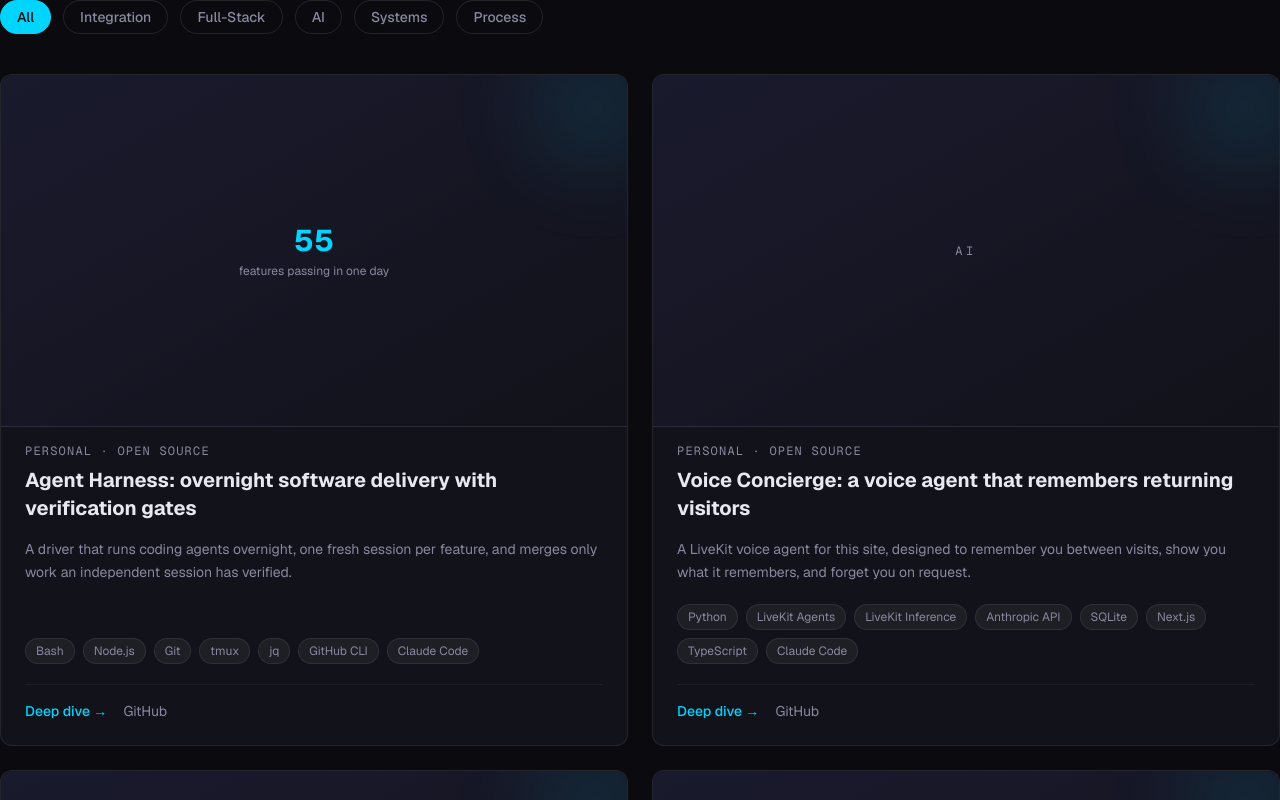
Test: ProjectsGrid › filtering by Process shows only the agent-harness and hit-list cards
Click the button "Process". click: (500, 17)
box: left=456, top=0, right=543, bottom=34
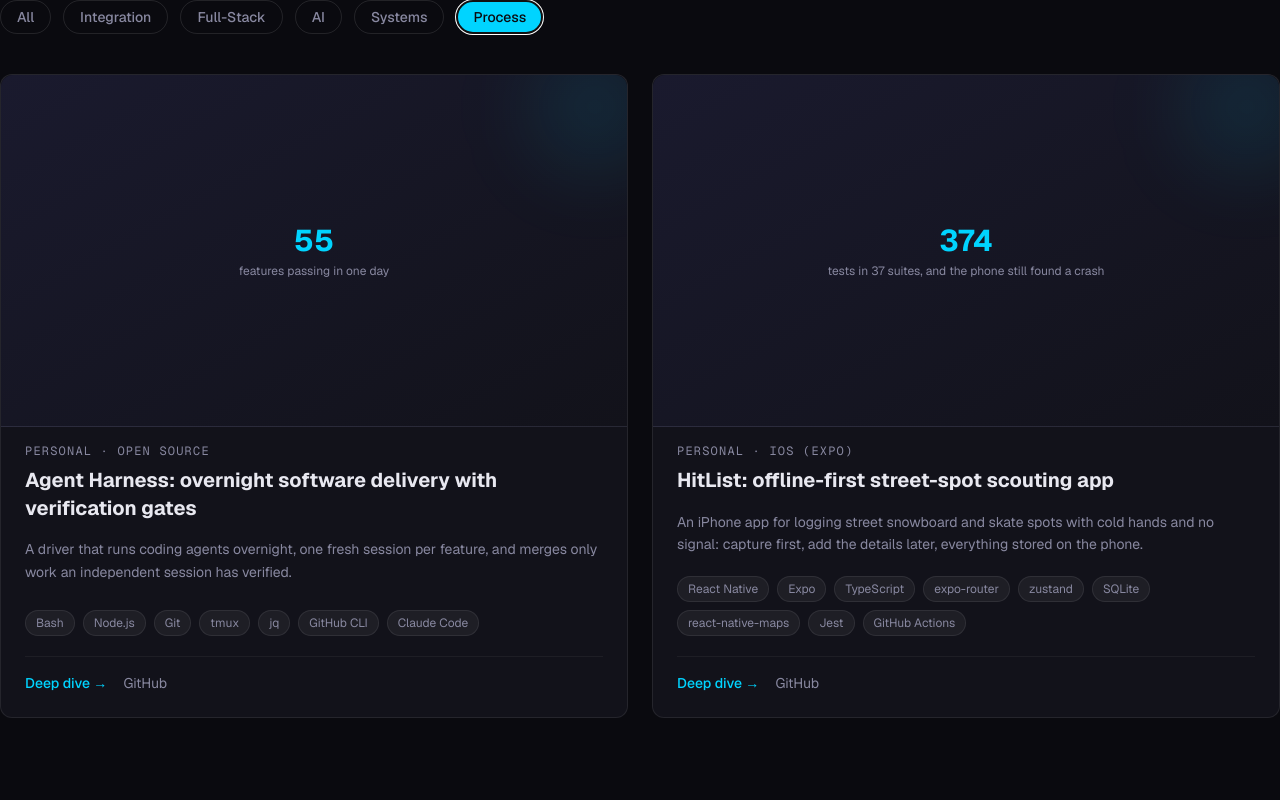
Expected: the heading "Agent Harness: overnight software delivery with verification gates" is shown, left=25, top=467, right=497, bottom=521
Now the heading "Voice Concierge: a voice agent that remembers returning visitors" is gone
